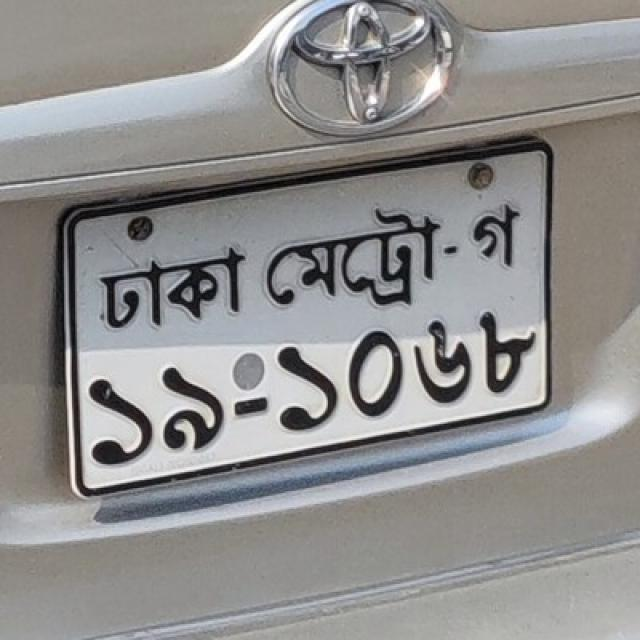numberplate: (58, 134, 555, 500)
